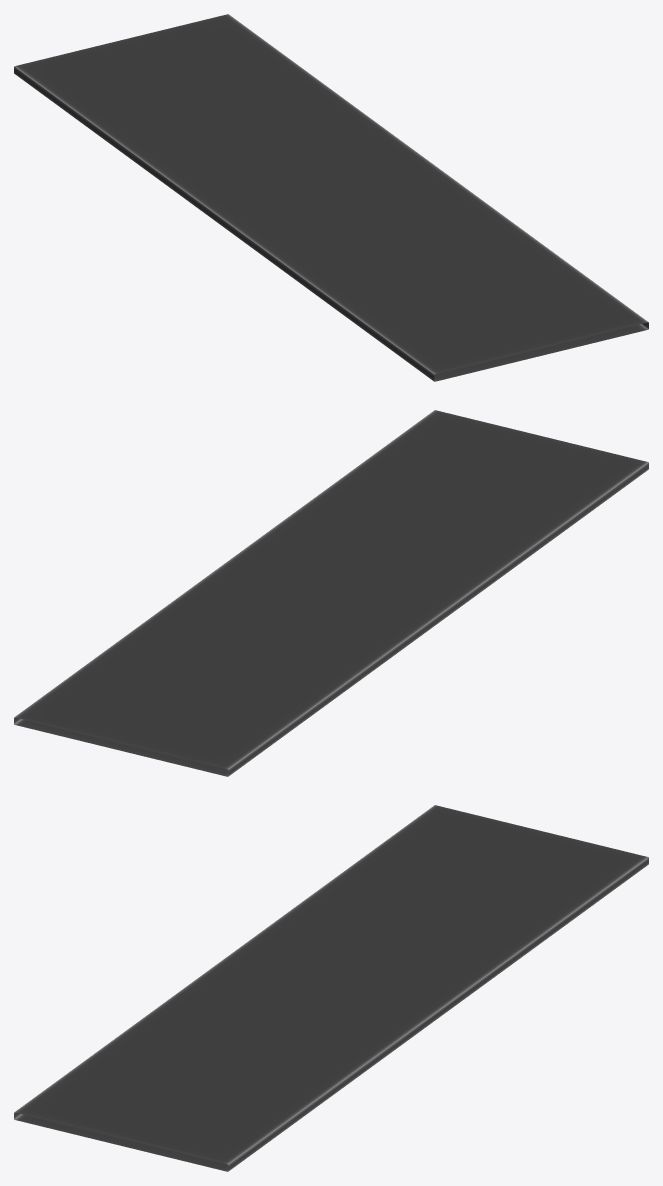
The model's file is 3D_Track_Straight_Large_2.FBX.
The picture shows the model from 3 angles, top to bottom: view 1: azimuth 30°, elevation 25°; view 2: azimuth 150°, elevation 25°; view 3: azimuth 330°, elevation 25°; orthographic projection.
Visible parts, largest first — view 1: 3D_Track_Straight_Large_2; view 2: 3D_Track_Straight_Large_2; view 3: 3D_Track_Straight_Large_2.
Boxes of the visible parts, left/top/right/bottom form: 3D_Track_Straight_Large_2: left=14, top=14, right=648, bottom=381; 3D_Track_Straight_Large_2: left=14, top=410, right=648, bottom=776; 3D_Track_Straight_Large_2: left=14, top=805, right=648, bottom=1171.
Size of the model in its own units: 150 by 5 by 509.
